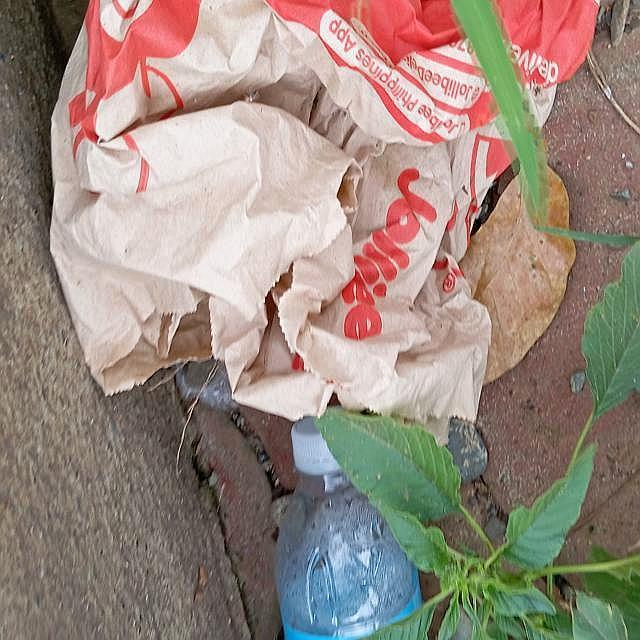Biodegradable: (52, 1, 601, 401)
Non-biodegradable: (276, 413, 427, 640)
